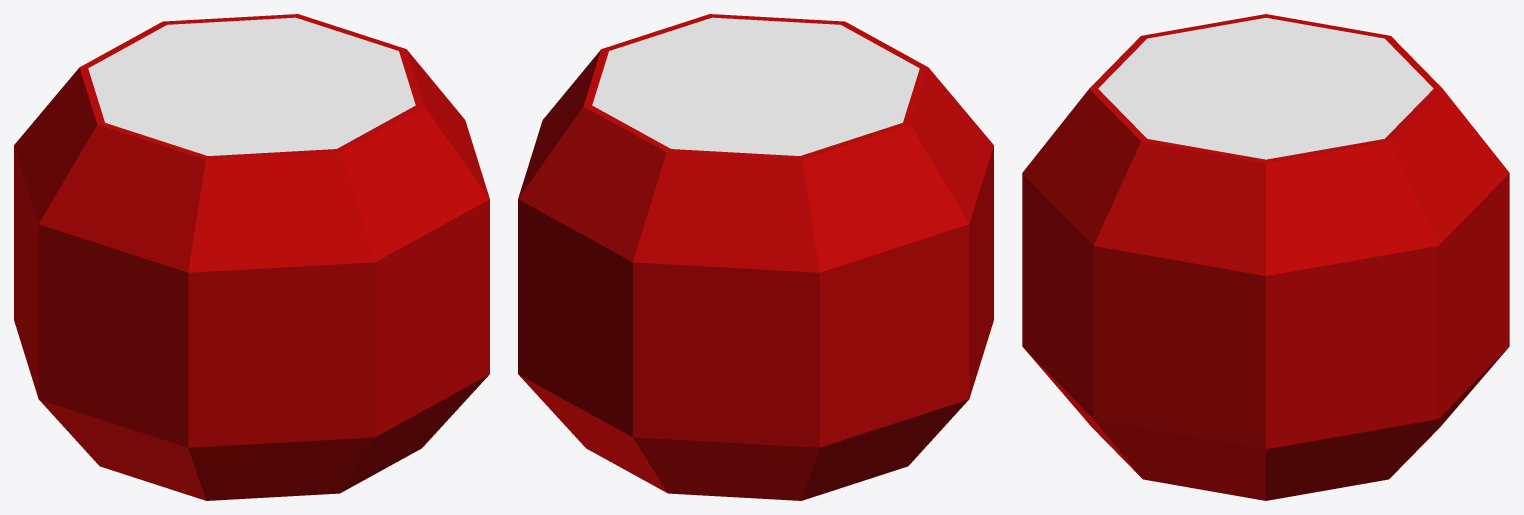
File: radish02.gltf
3 renders of one model, left to right at view 1: azimuth 30°, elevation 25°; view 2: azimuth 150°, elevation 25°; view 3: azimuth 270°, elevation 25°, orthographic.
Visible parts, largest first — view 1: Cylinder; view 2: Cylinder; view 3: Cylinder.
Boxes of the visible parts, bbox=[...] form: Cylinder: bbox=[14, 14, 489, 500]; Cylinder: bbox=[518, 14, 993, 500]; Cylinder: bbox=[1022, 14, 1509, 500].
Size of the model in its own units: 0.0594 by 0.0455 by 0.0594.
1 material, 1 textured.
